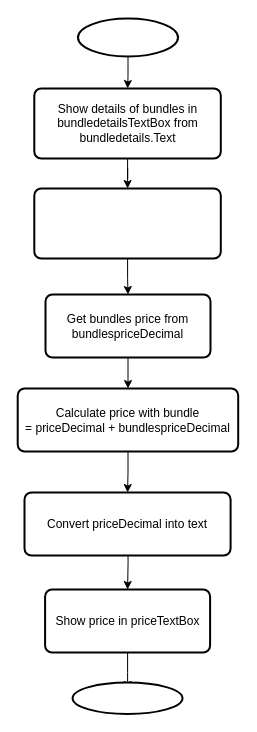
Some shapes in this 257 by 732 pixel diagram are drawn without their labels. The shapes that lost their labels are listed below. From the top down, each one's centre as x and y in pixels, then its label:
At pixel 127 37: "Start".
At pixel 127 223: "Show bundles picture in bundlesPictureBox".
At pixel 127 697: "End".
